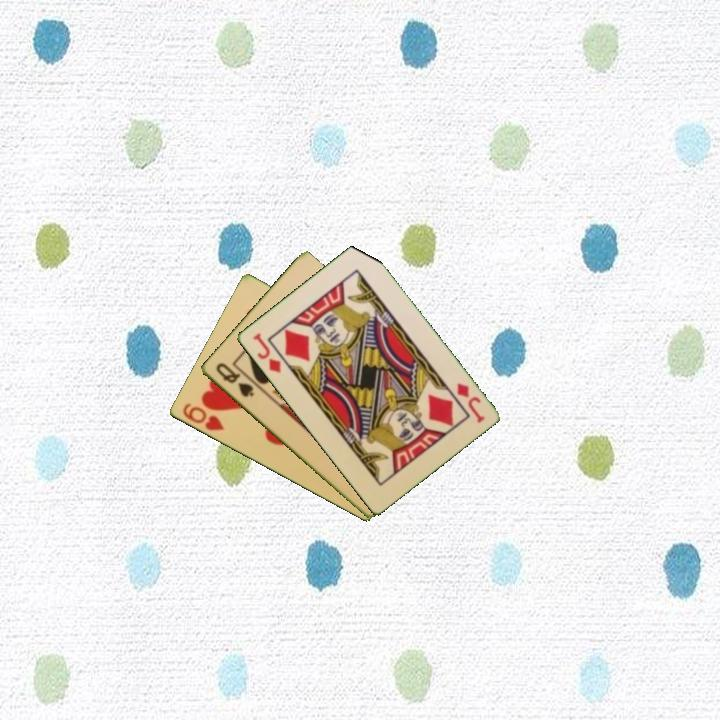6h: (179, 400, 227, 434)
Jd: (249, 329, 284, 376), (453, 379, 488, 426)
Qs: (212, 359, 257, 400)
